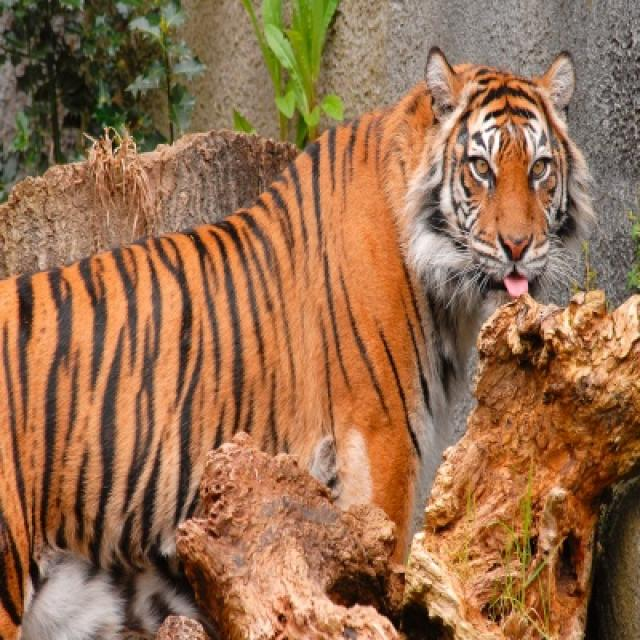Tiger: (0, 43, 576, 607)
